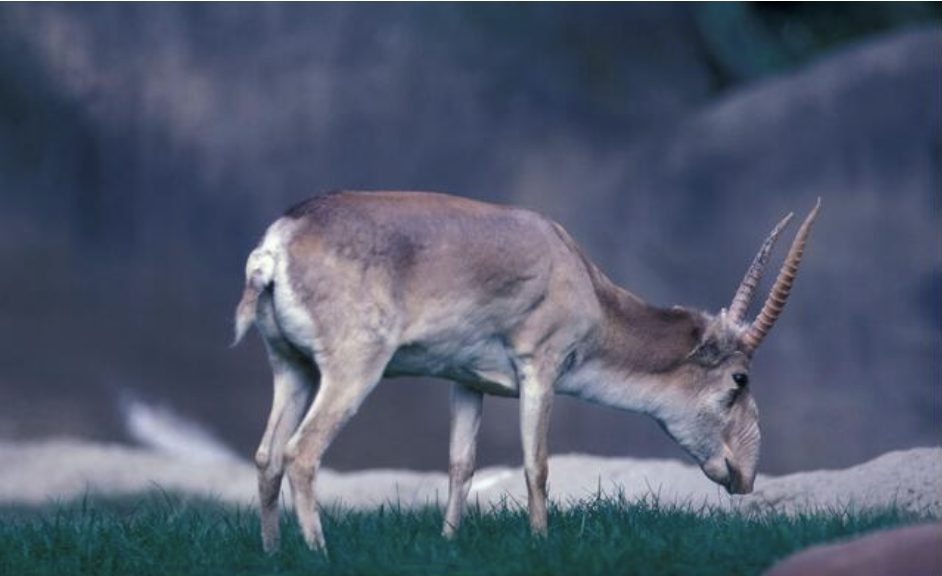saiga: (224, 140, 794, 517)
